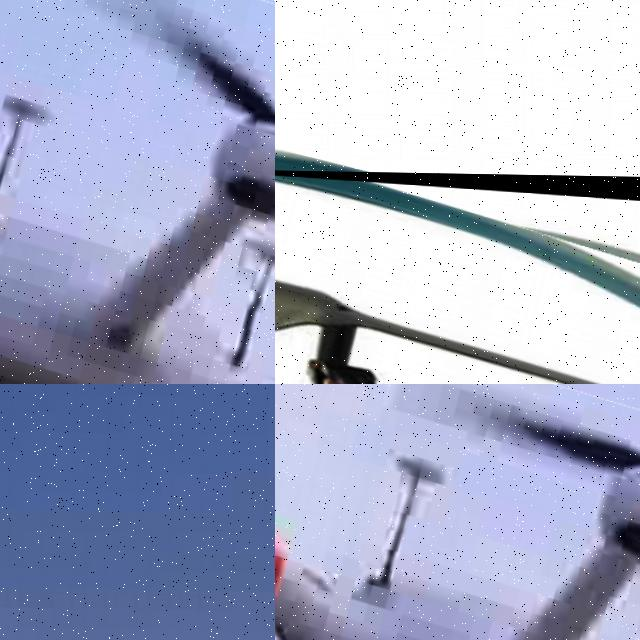0: (0, 0, 275, 384), (275, 384, 640, 640)
drone: (275, 168, 640, 384)
